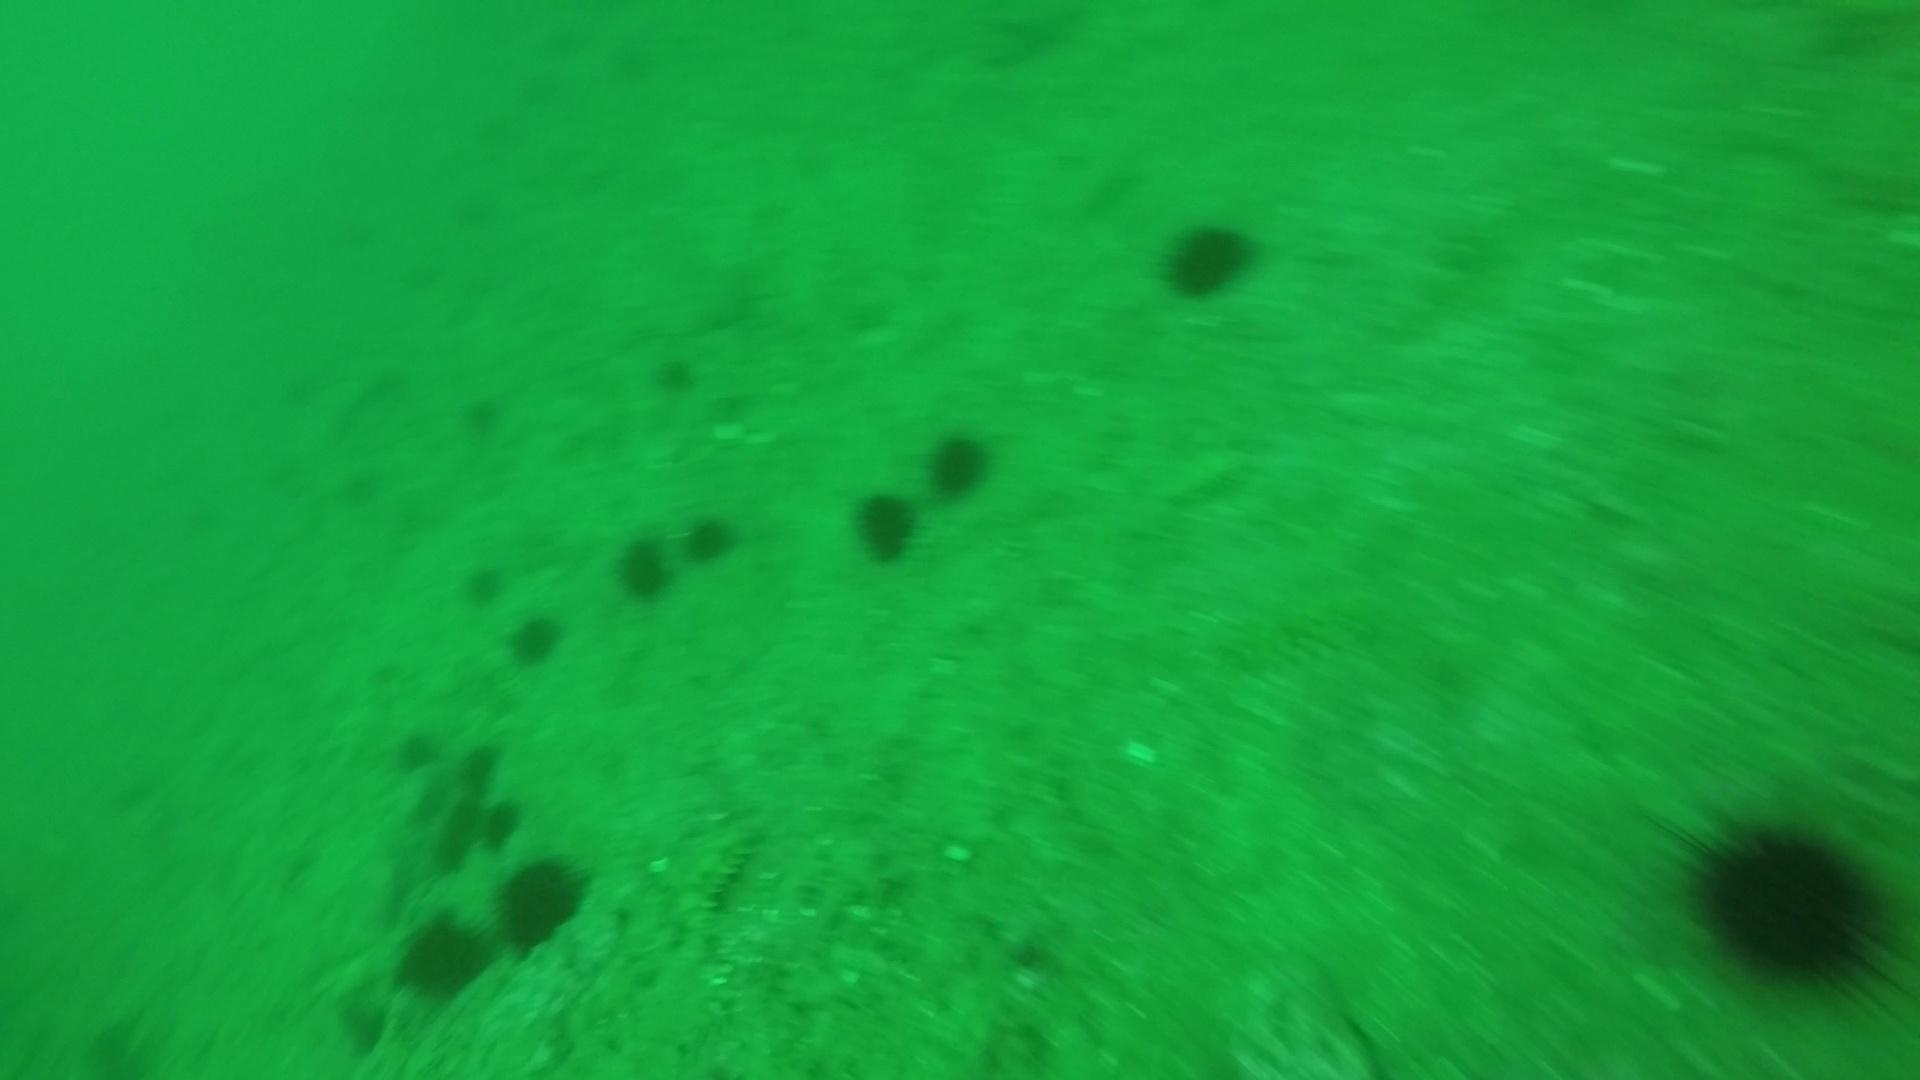echinus: (1677, 808, 1898, 990), (491, 851, 592, 953), (392, 909, 495, 1004), (1156, 214, 1261, 303), (847, 487, 924, 567), (920, 425, 998, 502), (611, 530, 679, 604), (676, 506, 742, 568), (502, 608, 567, 669), (448, 738, 506, 803), (454, 386, 512, 440), (357, 357, 415, 411), (386, 487, 443, 541), (327, 463, 384, 517), (646, 348, 704, 400), (456, 556, 512, 609), (390, 724, 443, 777), (480, 796, 525, 855), (438, 796, 483, 855), (520, 65, 567, 99), (615, 51, 662, 86), (410, 252, 446, 291), (458, 195, 498, 228), (338, 219, 378, 252), (469, 117, 510, 142)
